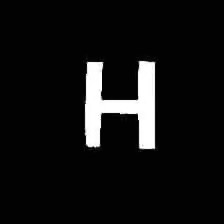LTR_H: (77, 50, 164, 158)
